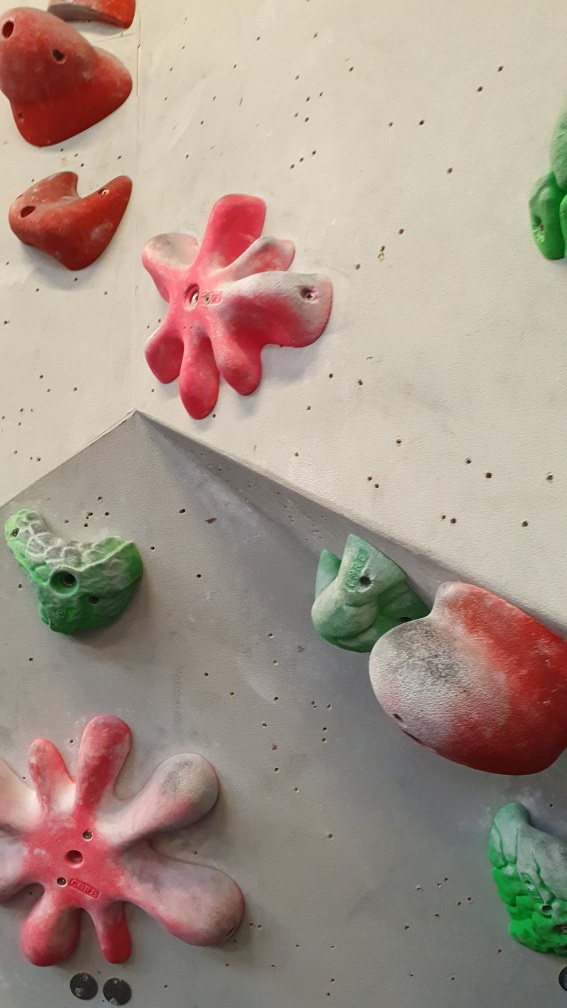Hand Start: (102, 978, 133, 1007), (70, 972, 98, 1003)
Jug: (310, 529, 420, 658), (480, 797, 567, 960)
Octopus Pinch: (1, 716, 248, 964), (139, 191, 336, 424)
Sloper: (367, 582, 566, 777), (1, 9, 134, 151)
